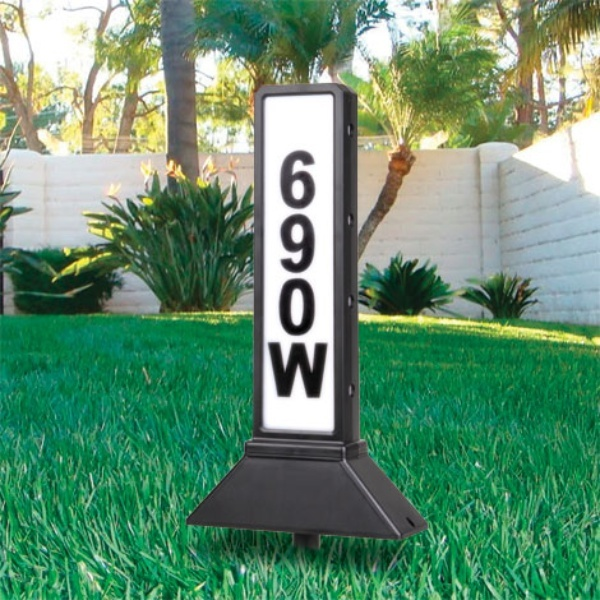text: (273, 151, 288, 399), (289, 151, 304, 399), (305, 151, 320, 399), (321, 151, 329, 399), (267, 151, 272, 399)
